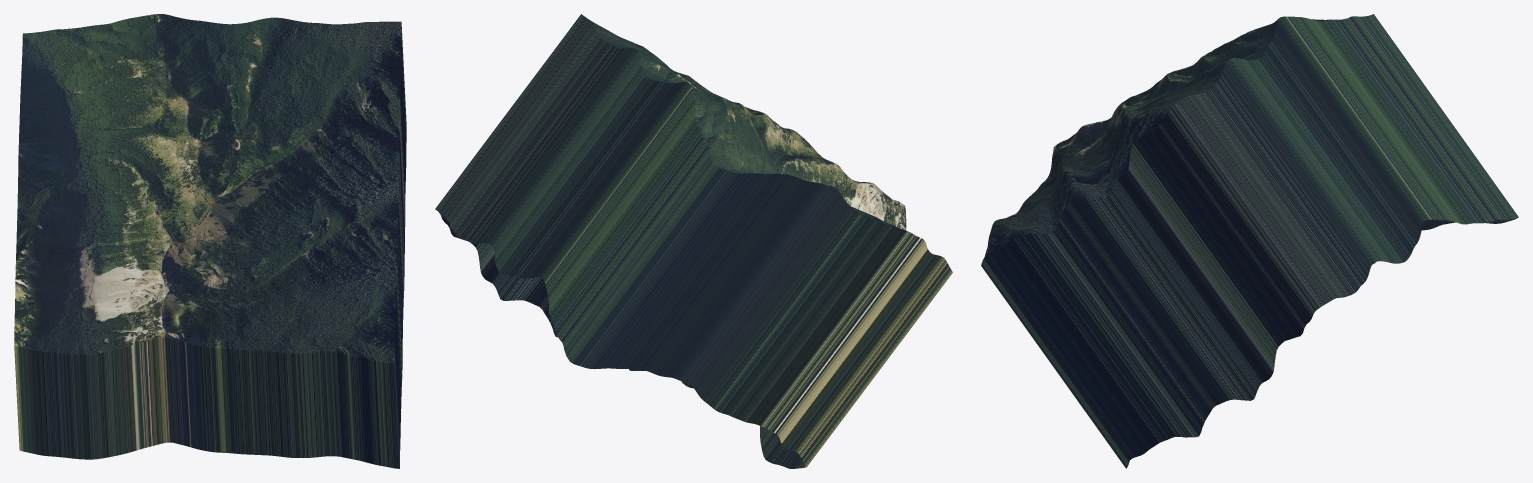
3 renders of one model, left to right at view 1: azimuth 30°, elevation 25°; view 2: azimuth 150°, elevation 25°; view 3: azimuth 270°, elevation 25°, orthographic. The views are drawn at different scales.
Size of the model in its own units: 6111 by 5091 by 6460.
1 material, 1 textured.
